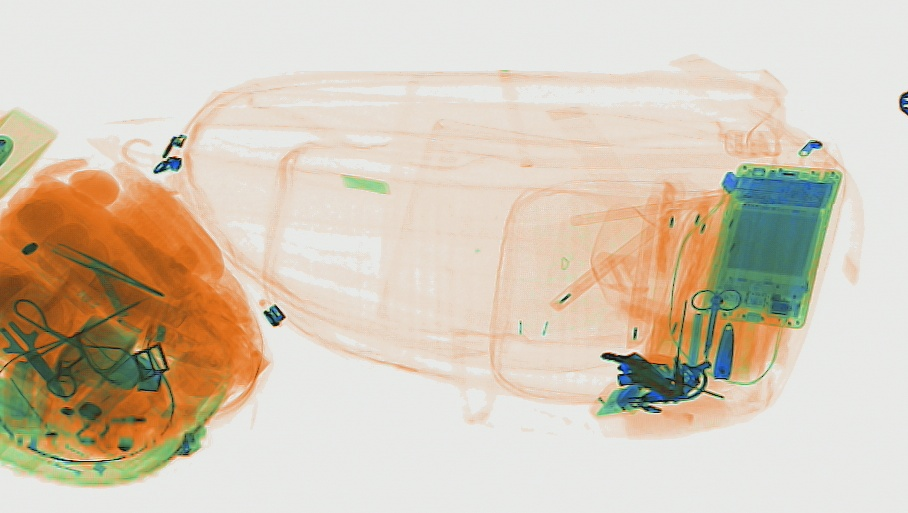scissors: (2, 285, 69, 402), (686, 284, 743, 356)
